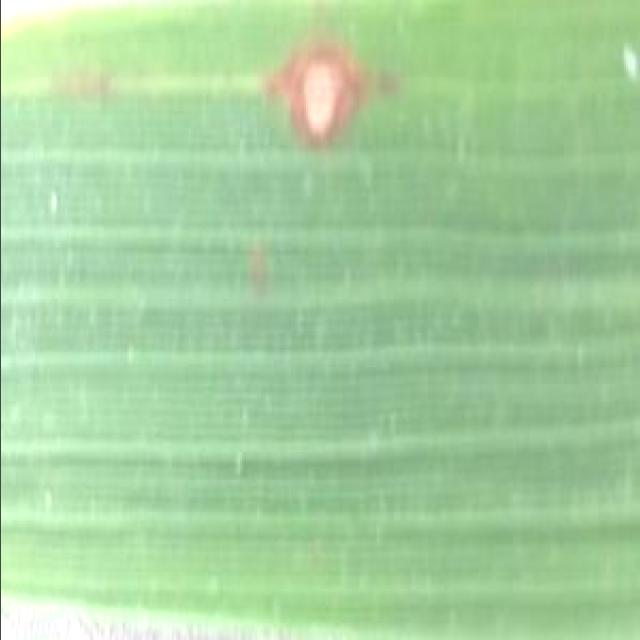Brown_Spot: (256, 27, 392, 159)
